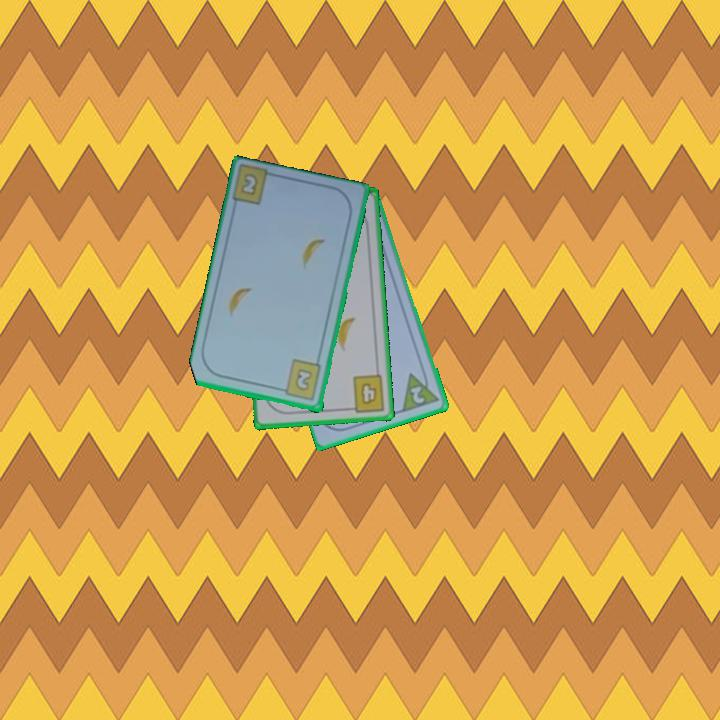2b: (276, 356, 324, 404), (237, 170, 261, 199)
2p: (407, 383, 428, 407)
4b: (344, 371, 388, 415)
